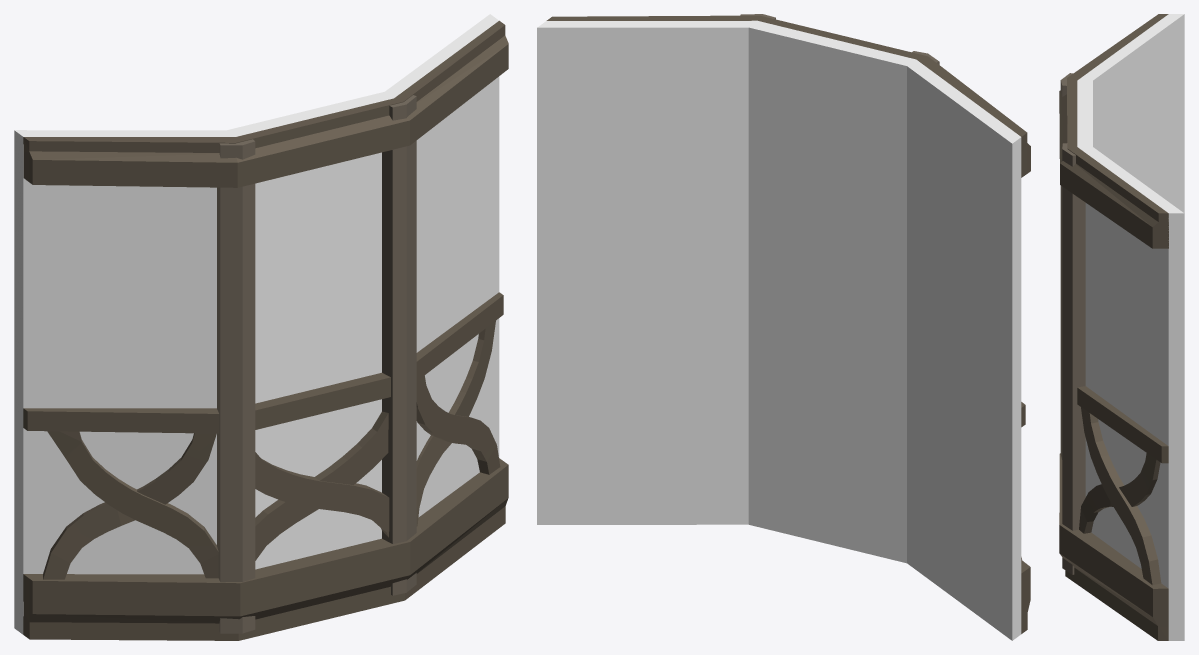
Rendered from WINDOW_02_Balkon_1.fbx.
3 renders of one model, left to right at view 1: azimuth 30°, elevation 25°; view 2: azimuth 150°, elevation 25°; view 3: azimuth 270°, elevation 25°, orthographic. The views are drawn at different scales.
Parts seen in each view (by area): view 1: WINDOW_02_Balkon_1; view 2: WINDOW_02_Balkon_1; view 3: WINDOW_02_Balkon_1.
Part boxes in pixels (x1,y1,x2,y2): WINDOW_02_Balkon_1: (14,14,508,640); WINDOW_02_Balkon_1: (537,14,1030,640); WINDOW_02_Balkon_1: (1059,14,1184,640).
Size of the model in its own units: 300 by 300 by 79.55.
